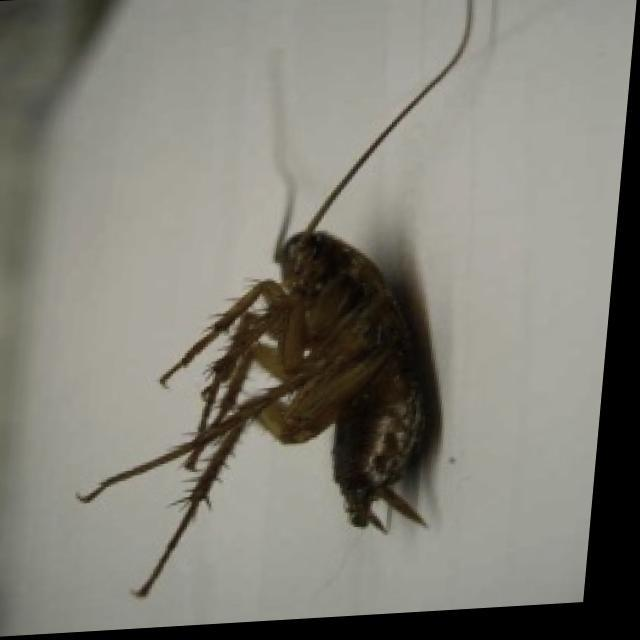cockroach: (140, 172, 482, 564)
